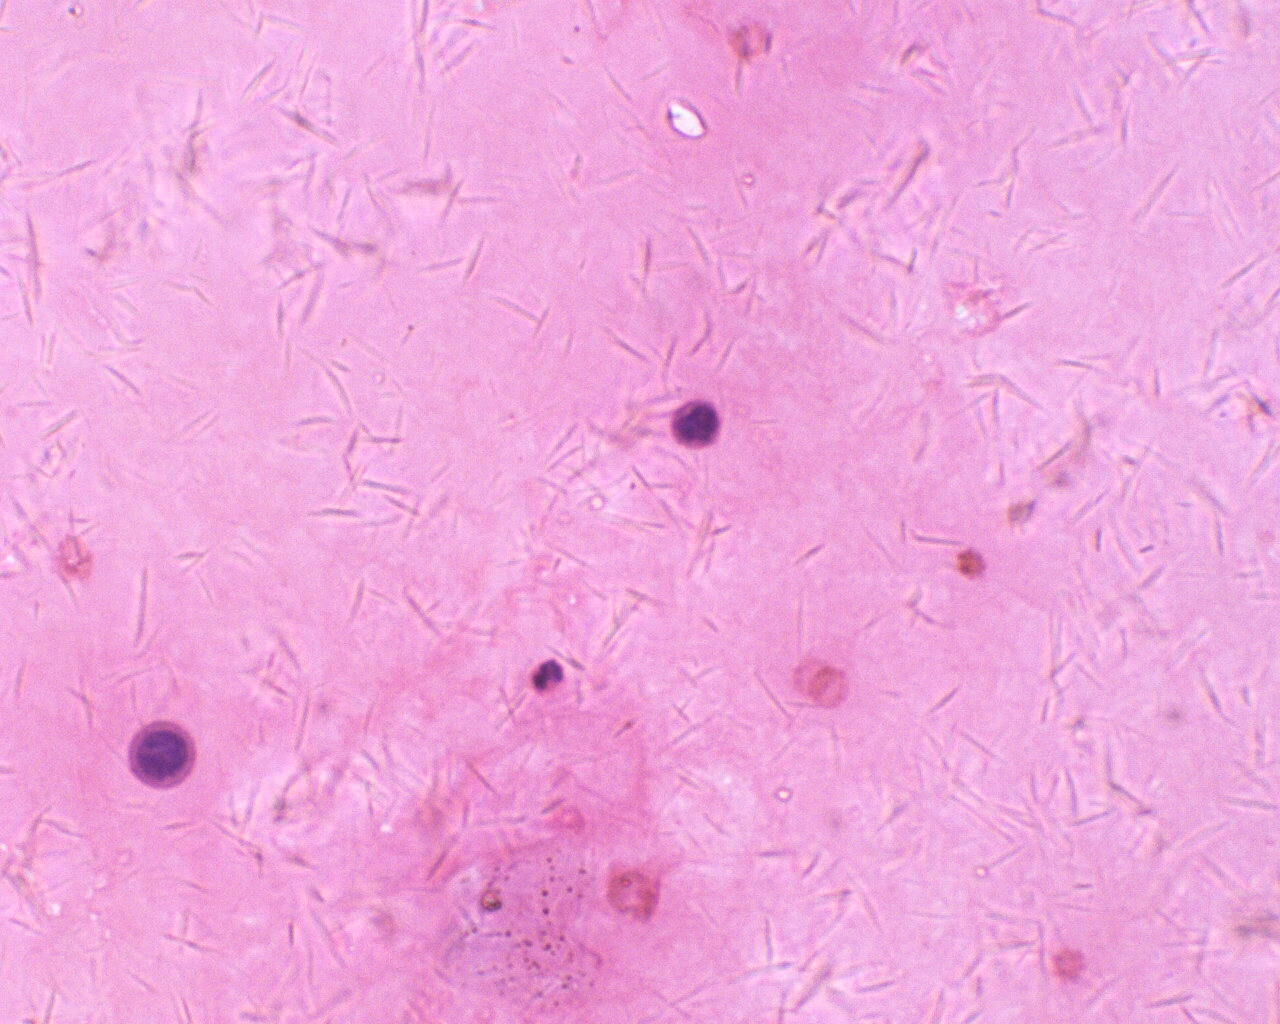ab: (123, 716, 200, 792), (668, 394, 726, 453)
